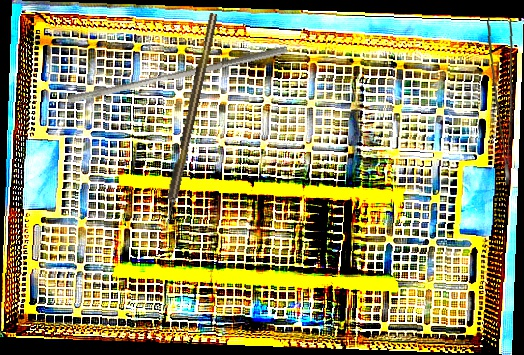Hook Surgical: (159, 12, 220, 232)
Pusher: (66, 37, 289, 112)
Tissue Forceps: (476, 17, 521, 184)
